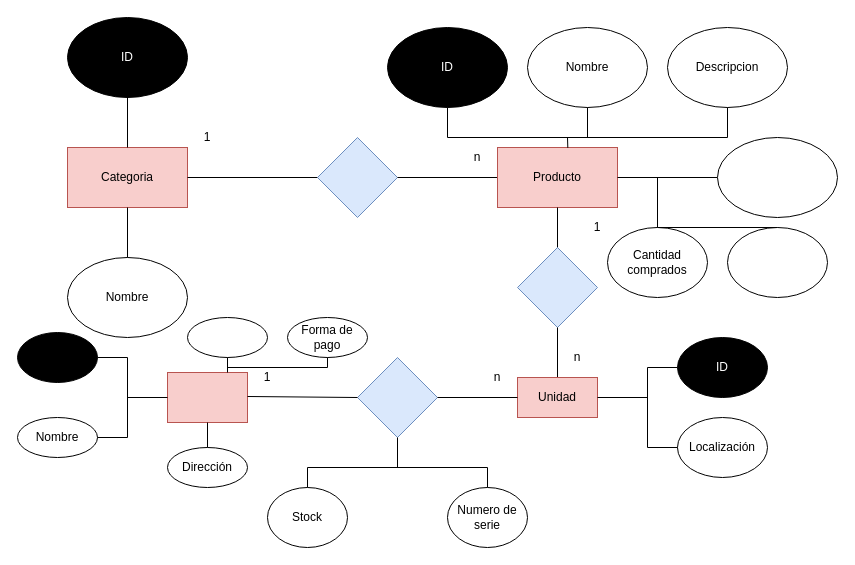
Some shapes in this 855 by 565 pixel diagram are drawn without their labels. The centre of each missing label's shape, as x and y in pixels:
"C.I." belongs at (57,357).
"Compra" belongs at (397,397).
"Contiene" belongs at (357,177).
"Moneda" belongs at (777,262).
"Precio" belongs at (777,177).
"Tiene" belongs at (557,287).
"Tipo de envio" belongs at (227,337).
"Usuario" belongs at (207,397).
